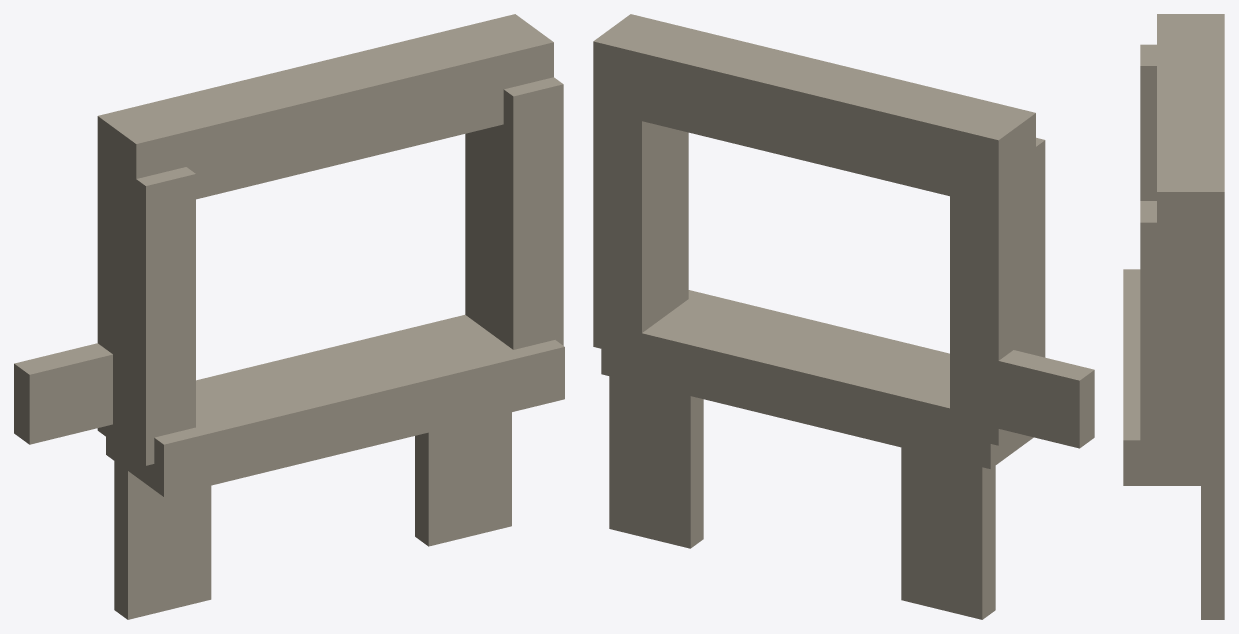
File: SM_BrokenCompactSettlement_Alpha.gltf
The picture shows the model from 3 angles, left to right: view 1: azimuth 30°, elevation 25°; view 2: azimuth 150°, elevation 25°; view 3: azimuth 270°, elevation 25°; orthographic projection. The views are drawn at different scales.
Parts seen in each view (by area): view 1: SM_CrownCitadelApproach_Alpha; view 2: SM_CrownCitadelApproach_Alpha; view 3: SM_CrownCitadelApproach_Alpha.
Part boxes in pixels (x1=…): SM_CrownCitadelApproach_Alpha: x1=14, y1=14, x2=564, y2=619; SM_CrownCitadelApproach_Alpha: x1=593, y1=14, x2=1094, y2=619; SM_CrownCitadelApproach_Alpha: x1=1123, y1=14, x2=1224, y2=619.
Bounding box in the file's own units: 30 × 28.5 × 6.
